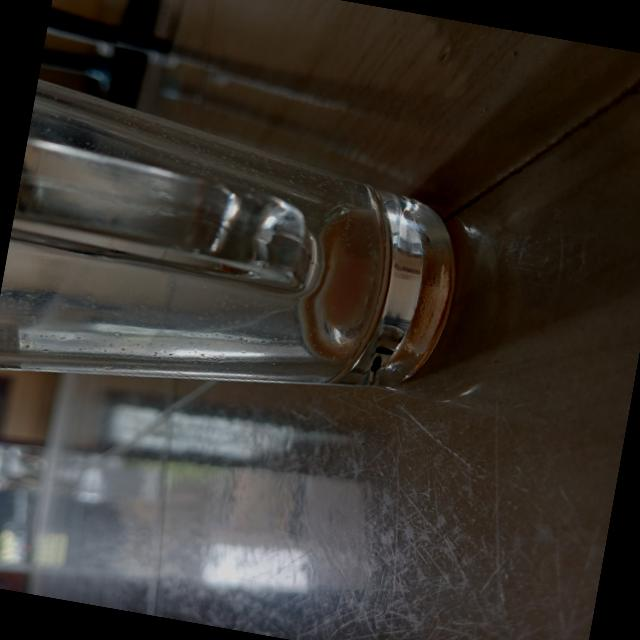glass-VX4N: (0, 78, 474, 448)
